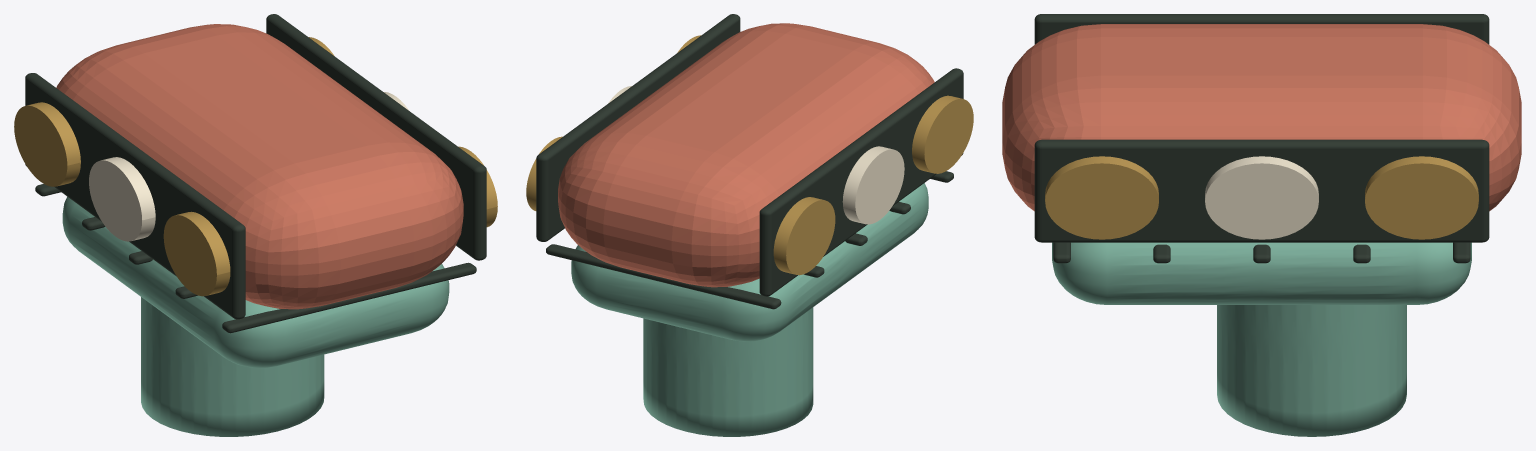
The model's file is brute-leg-1.glb.
3 renders of one model, left to right at view 1: azimuth 30°, elevation 25°; view 2: azimuth 150°, elevation 25°; view 3: azimuth 270°, elevation 25°, orthographic. The views are drawn at different scales.
Parts seen in each view (by area): view 1: foot_hardware (×4), lower_clay, upper_clay; view 2: foot_hardware (×4), upper_clay, lower_clay; view 3: foot_hardware (×4), lower_clay, upper_clay.
Boxes of the visible parts, x1,y1,x2,y2 form: foot_hardware (×4): (14, 14, 497, 333); lower_clay: (62, 196, 449, 367); upper_clay: (141, 297, 324, 436); foot_hardware (×4): (526, 14, 973, 309); upper_clay: (643, 307, 813, 436); lower_clay: (571, 183, 928, 341); foot_hardware (×4): (1002, 14, 1521, 263); lower_clay: (1052, 242, 1471, 304); upper_clay: (1217, 305, 1406, 436).
Bounding box in the file's own units: 0.6109 × 0.6583 × 0.9152.
